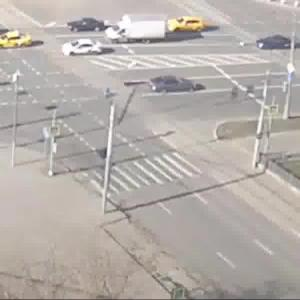car: (106, 16, 166, 46), (149, 74, 208, 101), (70, 35, 117, 64), (1, 25, 35, 54), (160, 17, 205, 37), (66, 18, 106, 40), (260, 33, 293, 52)
